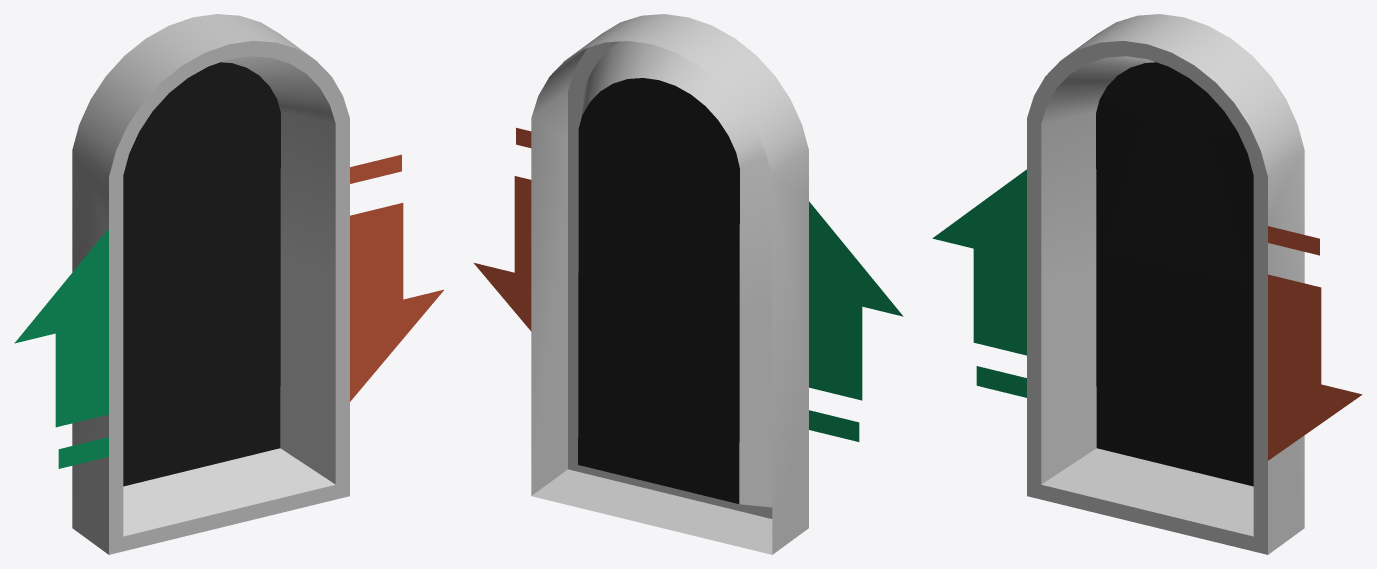
File: gate.fbx
3 renders of one model, left to right at view 1: azimuth 30°, elevation 25°; view 2: azimuth 150°, elevation 25°; view 3: azimuth 330°, elevation 25°, orthographic.
Visible parts, largest first — view 1: Cylinder; view 2: Cylinder; view 3: Cylinder.
Part boxes in pixels (x1,y1,x2,y2): Cylinder: (14, 14, 443, 554); Cylinder: (473, 14, 903, 554); Cylinder: (932, 14, 1362, 554).
Bounding box in the file's own units: 16.14 × 17.24 × 2.38.
